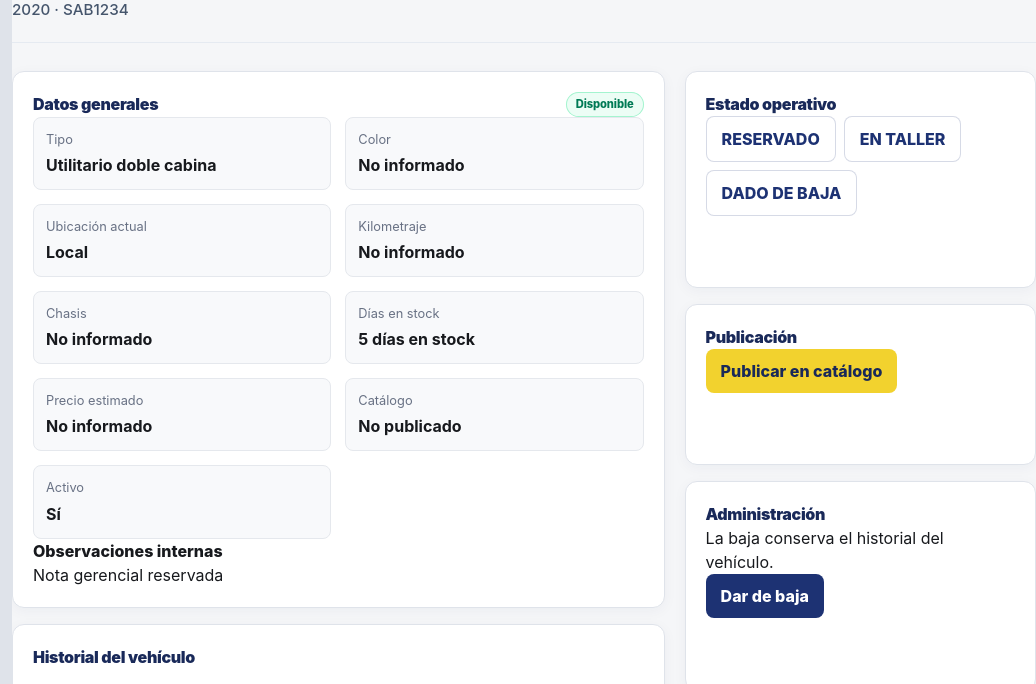
Scenario: historial integrado en el detalle › recarga los eventos después de Publicar en catálogo
The width and height of the screenshot is (1036, 684).
Step 1. Click the button "Publicar en catálogo" → click(801, 371), box 706,349 -> 897,393
(page scrolled)
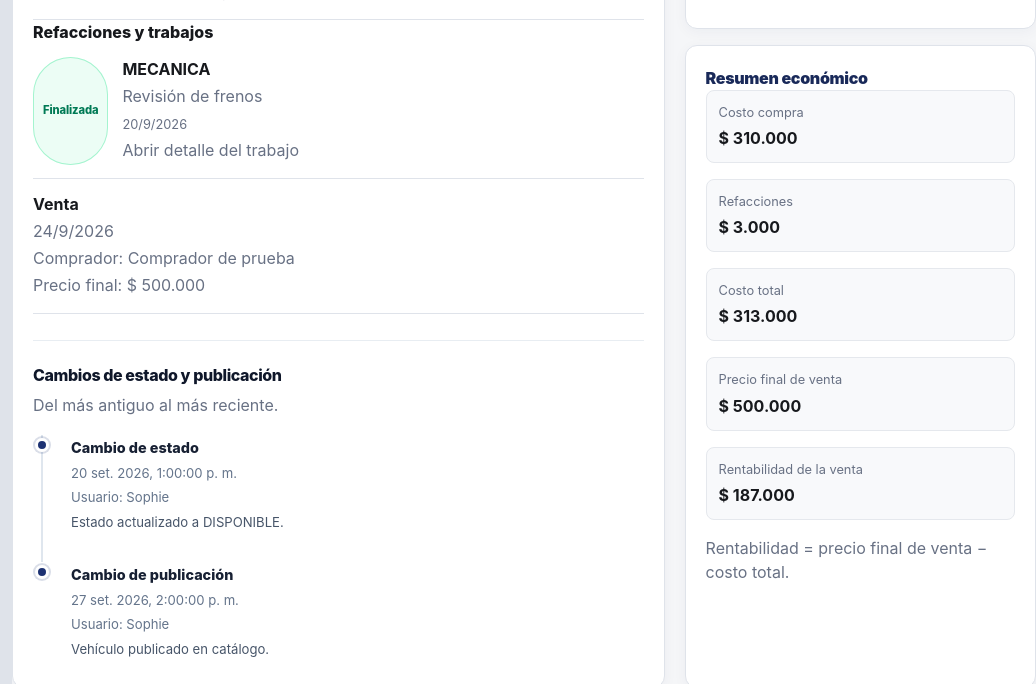
Check: the text "Vehículo publicado en catálogo." is shown, box 71,641 -> 269,657
